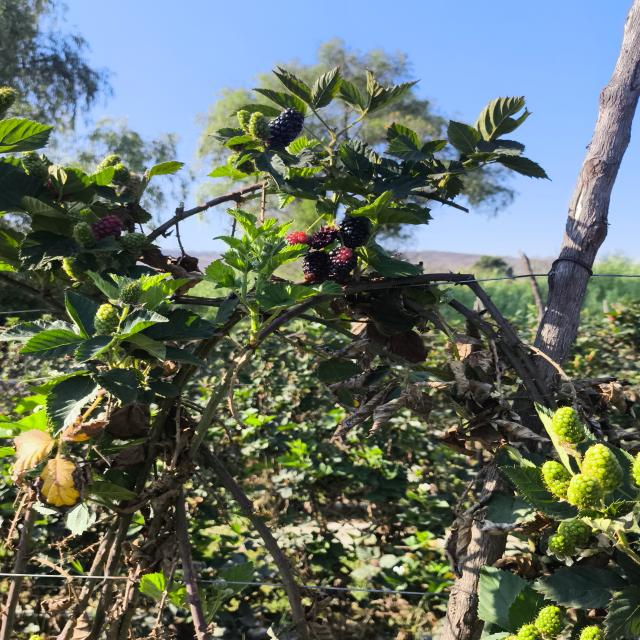maduro: (340, 217, 368, 249), (302, 251, 330, 280), (229, 103, 280, 117)
marron: (329, 247, 357, 283), (91, 215, 122, 240)
verde: (582, 444, 622, 494), (566, 473, 604, 509), (552, 406, 585, 444), (542, 460, 572, 499), (533, 606, 562, 637), (559, 518, 591, 545), (94, 304, 119, 335), (21, 151, 48, 179), (62, 257, 88, 282), (548, 532, 575, 555), (248, 112, 270, 140), (73, 222, 96, 247), (120, 232, 146, 252), (119, 282, 142, 304), (96, 154, 121, 172), (112, 163, 131, 185), (236, 110, 251, 132)
